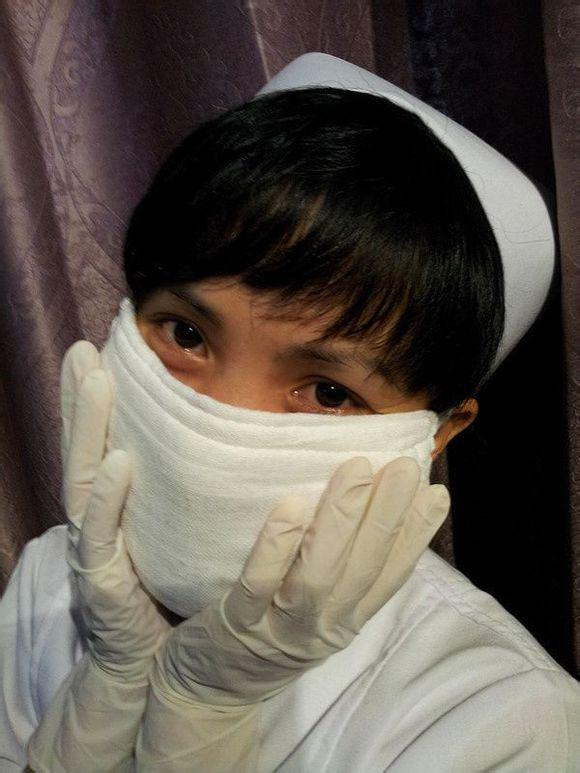OK: (110, 274, 444, 608)
